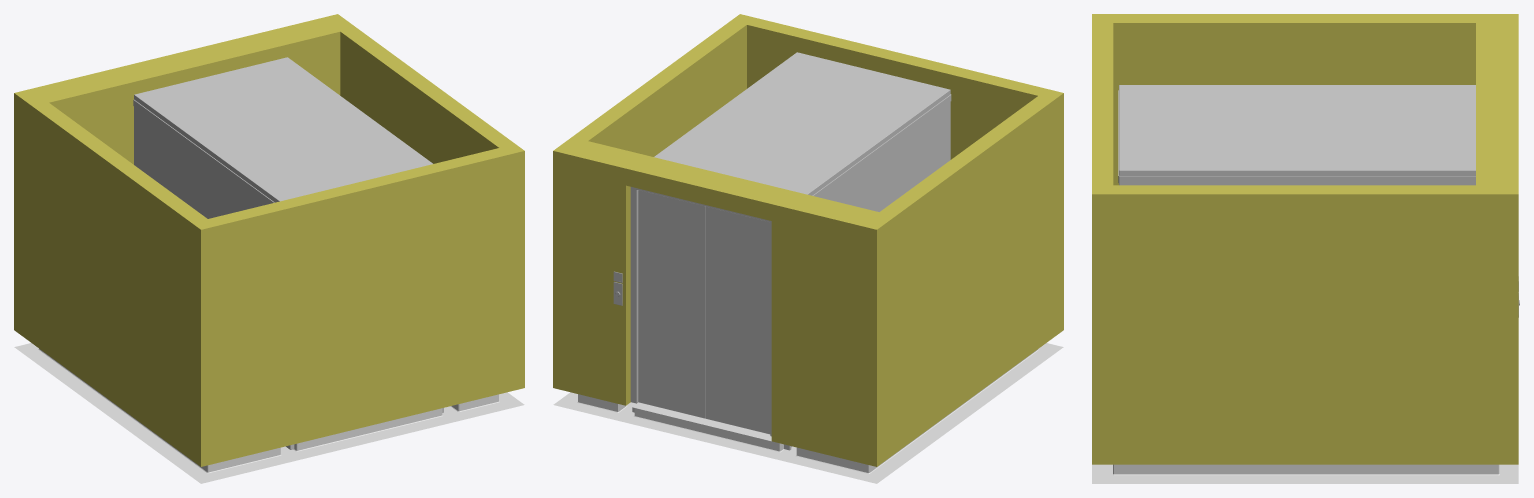
The model's file is elevator.fbx.
3 views of the same model, side by side, from view 1: azimuth 30°, elevation 25°; view 2: azimuth 150°, elevation 25°; view 3: azimuth 270°, elevation 25° (orthographic). The views are drawn at different scales.
Parts seen in each view (by area): view 1: elevator_wall, elevator, elevator_floor; view 2: elevator_wall, elevator, elevator_1, elevator_2, elevator_floor, elevator_in; view 3: elevator_wall, elevator, elevator_floor.
Boxes of the visible parts, box(x1,y1,x2,y2) form: elevator_wall: box(14, 14, 524, 466); elevator: box(133, 57, 443, 449); elevator_floor: box(14, 343, 524, 483); elevator_wall: box(553, 14, 1063, 466); elevator: box(632, 52, 951, 450); elevator_1: box(638, 190, 705, 418); elevator_2: box(705, 206, 770, 434); elevator_floor: box(553, 343, 1063, 483); elevator_in: box(613, 187, 771, 436); elevator_wall: box(1092, 14, 1518, 464); elevator: box(1118, 85, 1475, 185); elevator_floor: box(1092, 464, 1518, 483).
Bounding box in the file's own units: 4 × 3 × 4.01.
